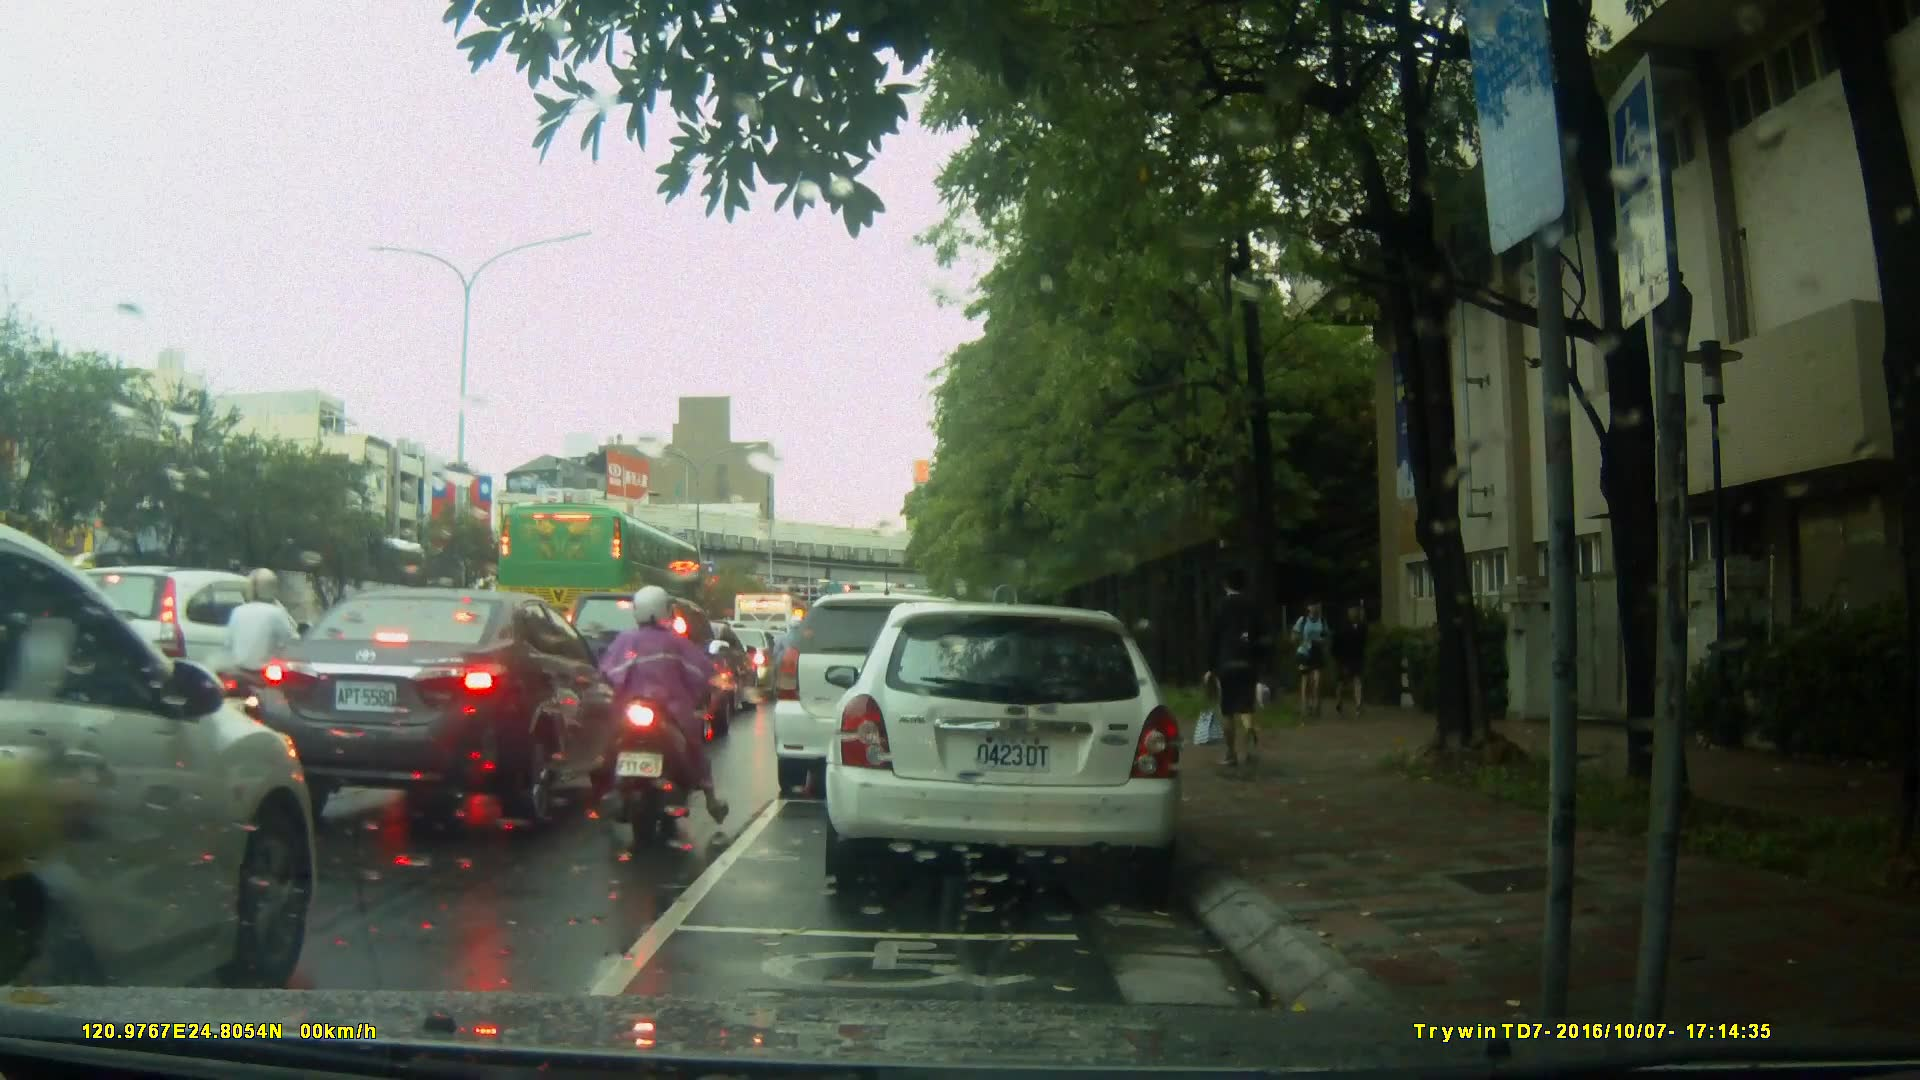pedestrian: (1201, 567, 1277, 773), (1293, 592, 1346, 719), (1330, 597, 1369, 712)
rider: (605, 583, 723, 845), (221, 567, 332, 774), (769, 612, 809, 708)
vehicle: (1, 521, 321, 987), (831, 592, 1196, 897), (248, 585, 630, 833), (22, 562, 320, 760), (770, 592, 999, 799), (495, 501, 707, 645), (547, 588, 731, 742)
